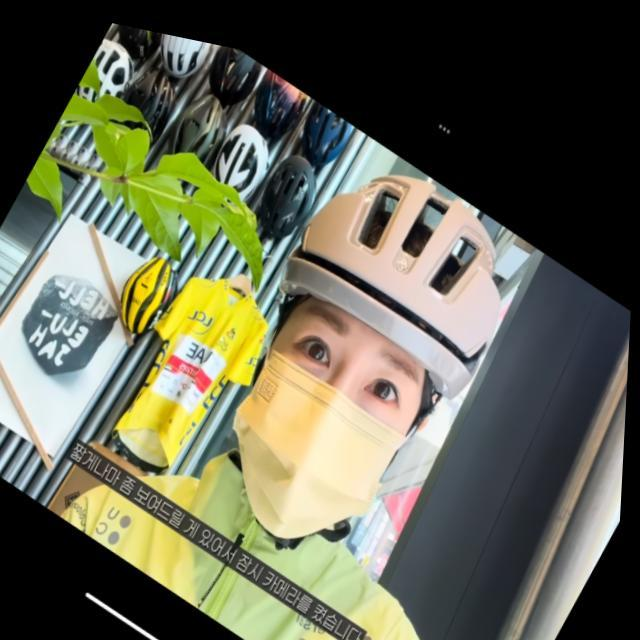Helmet: (202, 144, 516, 558)
